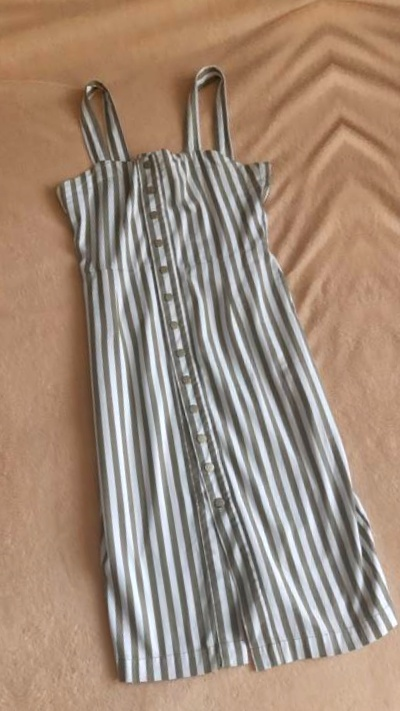Dress: (12, 42, 400, 711), (339, 0, 400, 660)
